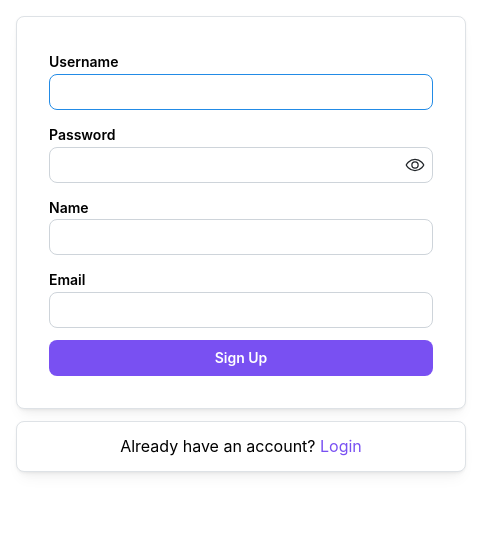
Signup › shows a generic error message on network failure (no error.response)
The width and height of the screenshot is (483, 557).
In the field labelled "Username": [241, 92] box [49,74,433,110], type "alice"
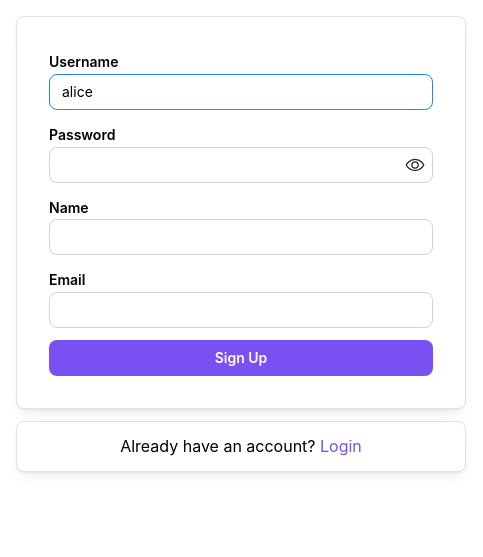
In the password field labelled "Password": [241, 165] box [50,148,432,182], type "secret"
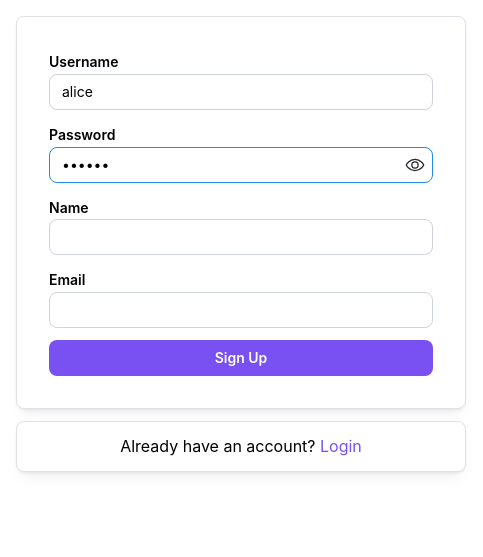
In the field labelled "Name": [241, 237] box [49,219,433,255], type "Alice"
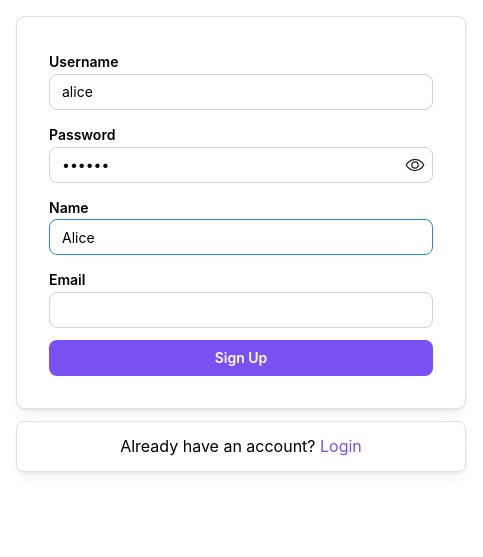
In the field labelled "Email": [241, 310] box [49,292,433,328], type "alice@example.com"
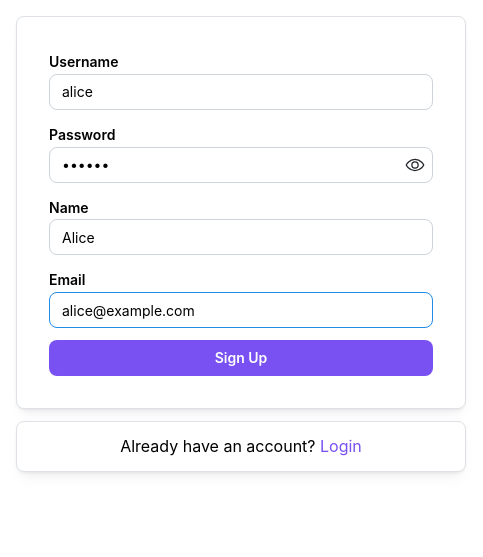
Click the button "Sign Up": [241, 358] box [49,340,433,376]
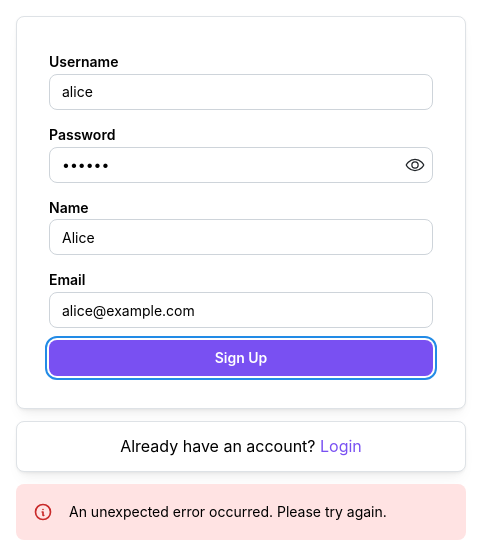
Check: the message "An unexpected error occurred. Please try again." is shown, box [16,484,466,540]
Check: the text "An unexpected error occurred. Please try again." is shown, box [69,503,387,520]
